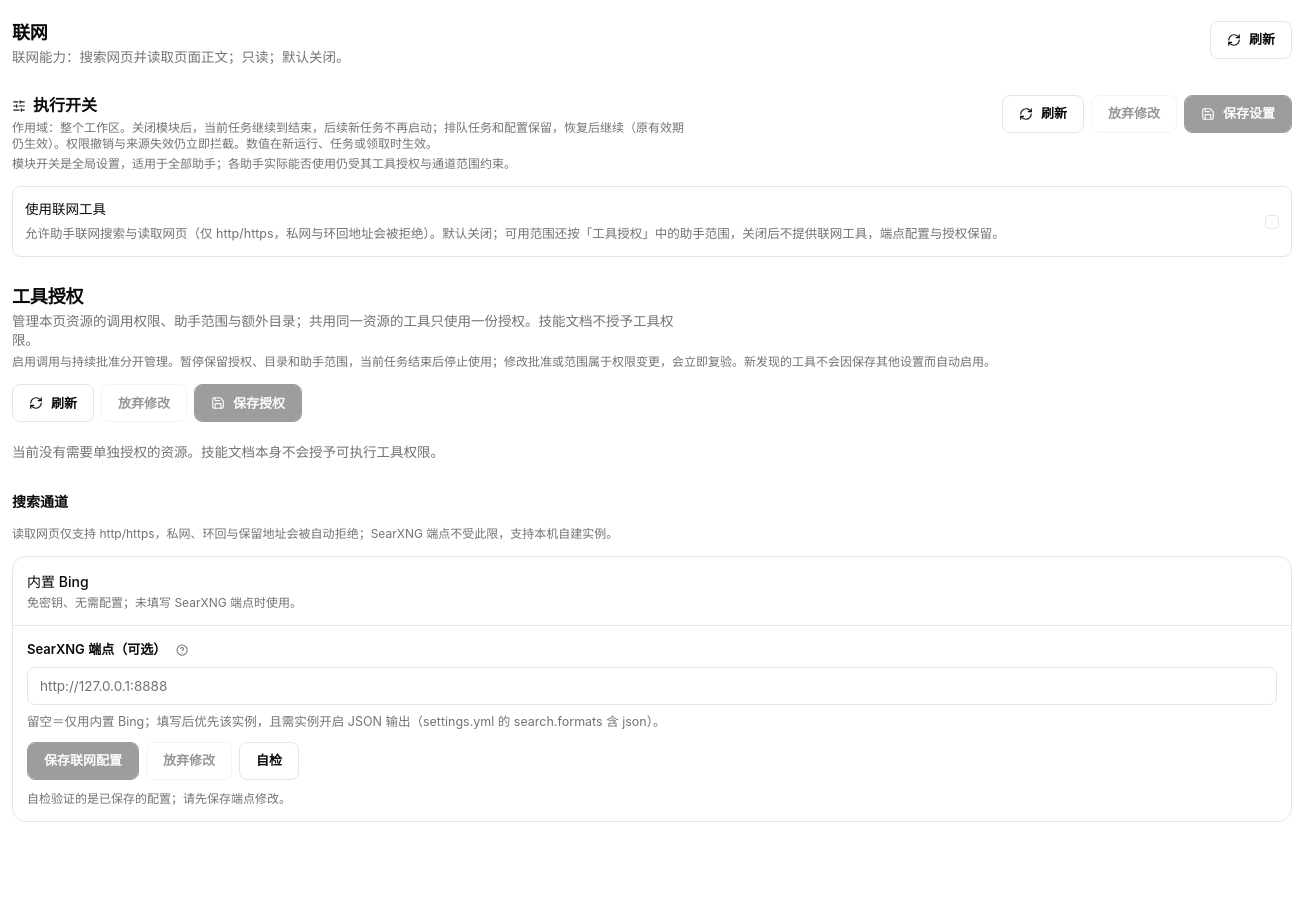
Scenario: web access panel › disables the self-test while running and reports channel and elapsed time
Click the button "自检" at [269, 761], box [239,742,299,780]
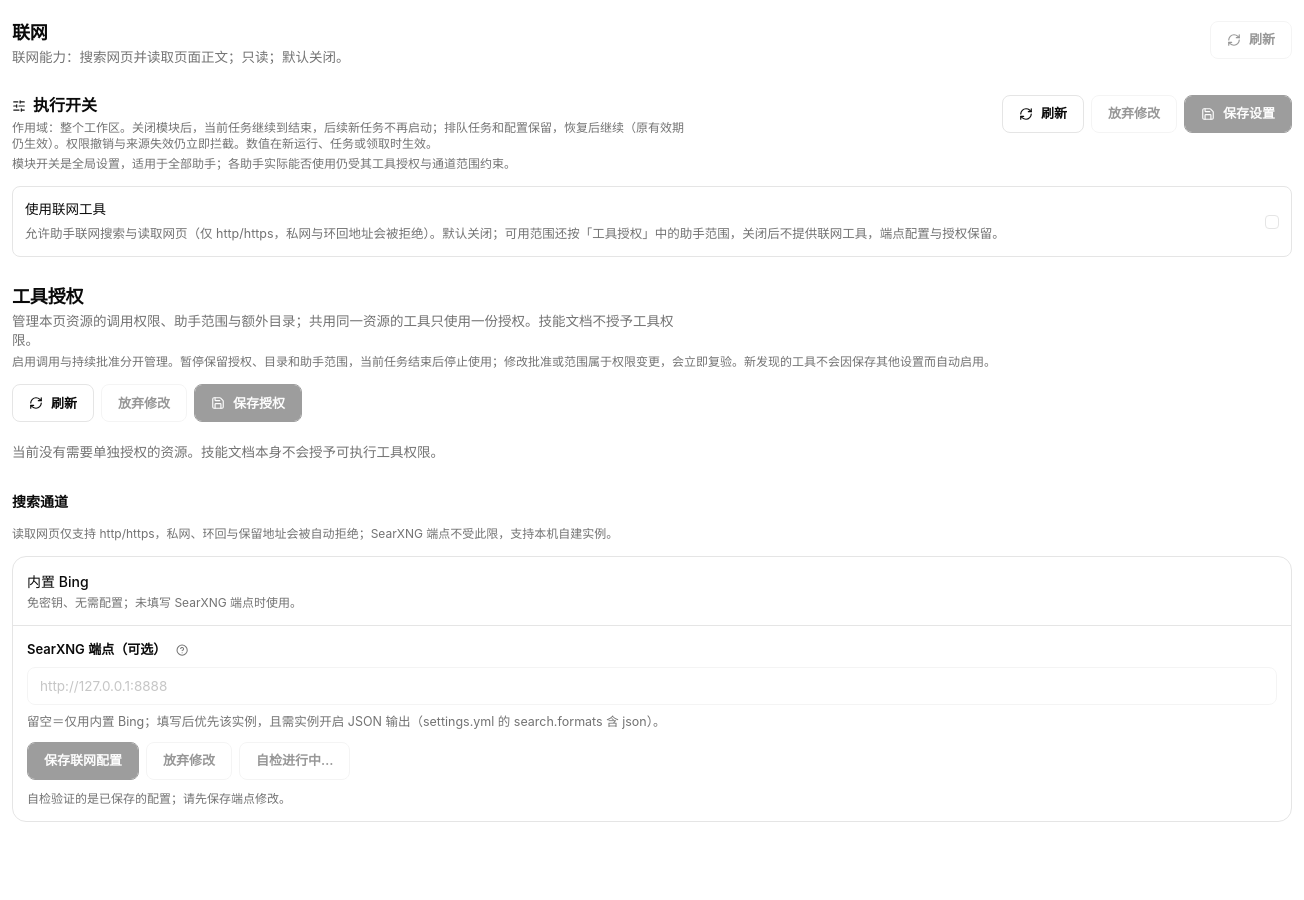
expect the button "自检进行中…" is disabled: met
Click the button "自检进行中…" at [295, 761], box [239,742,350,780]
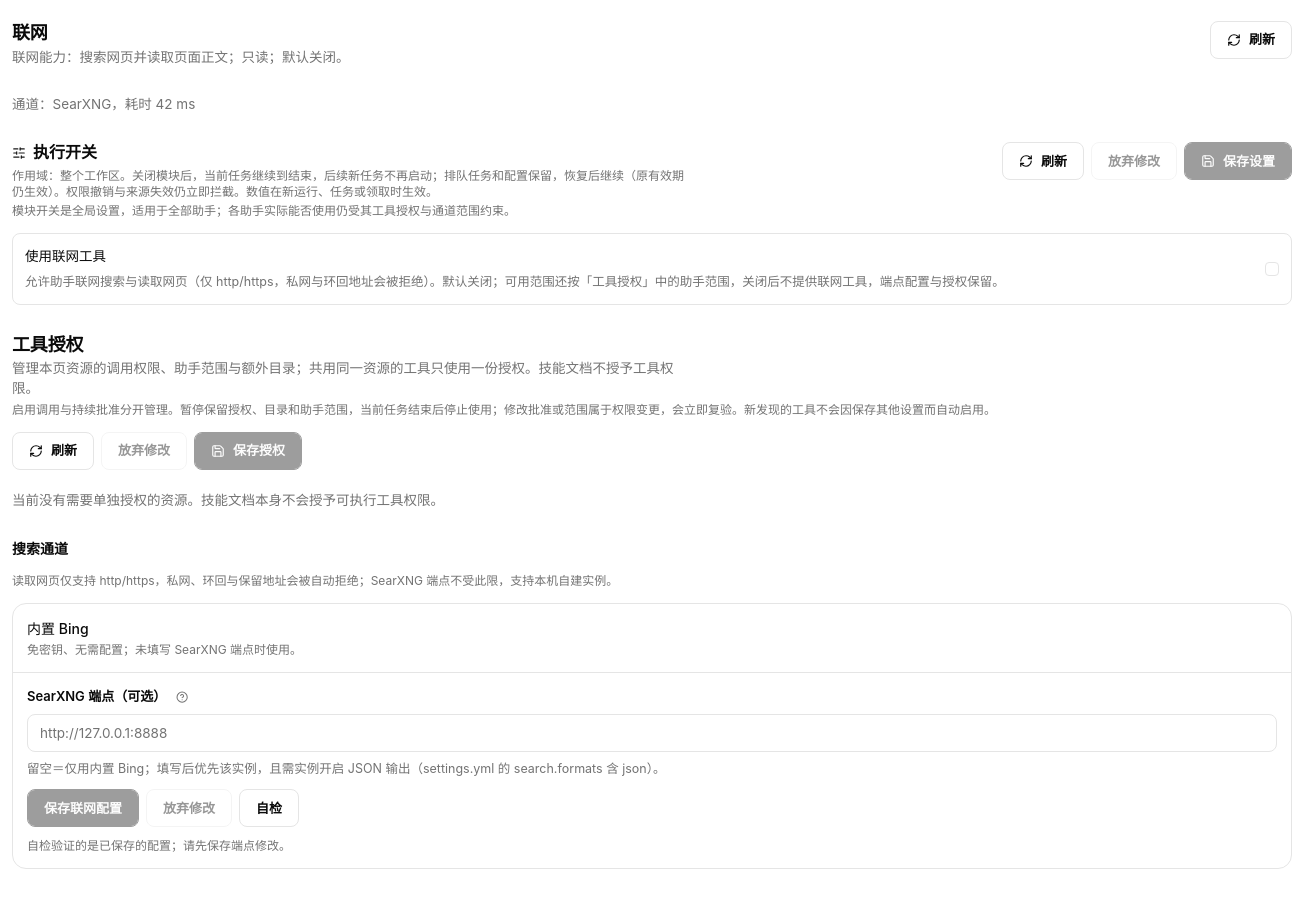
expect the message reads "通道：SearXNG，耗时 42 ms": met, box [12,96,195,112]
expect the button "自检" is enabled: met, box [239,789,299,827]
